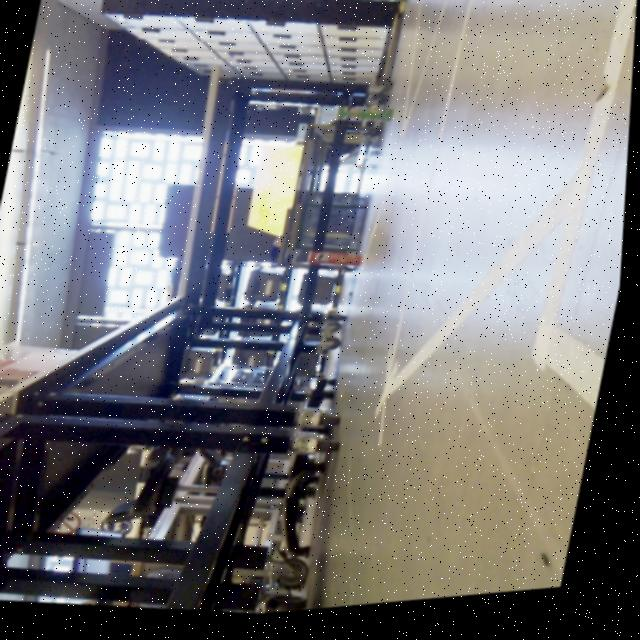greenpringles: (327, 103, 399, 142)
redpringles: (297, 246, 371, 283)
